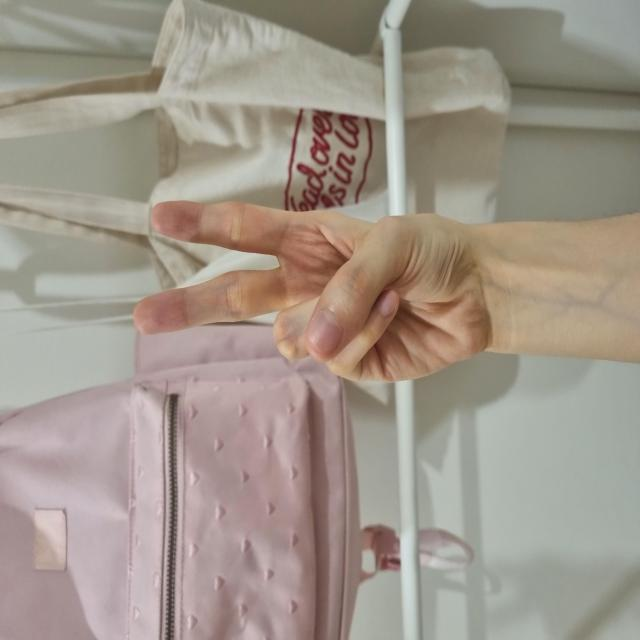V: (257, 132, 441, 491)
